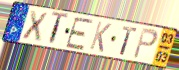E: (64, 16, 95, 52)
K: (88, 20, 113, 54)
P: (131, 27, 159, 61)
T: (48, 11, 70, 48), (119, 25, 139, 57)
X: (20, 9, 49, 42)
